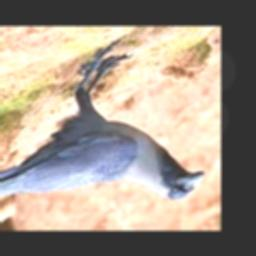Crow: (0, 40, 203, 201)
